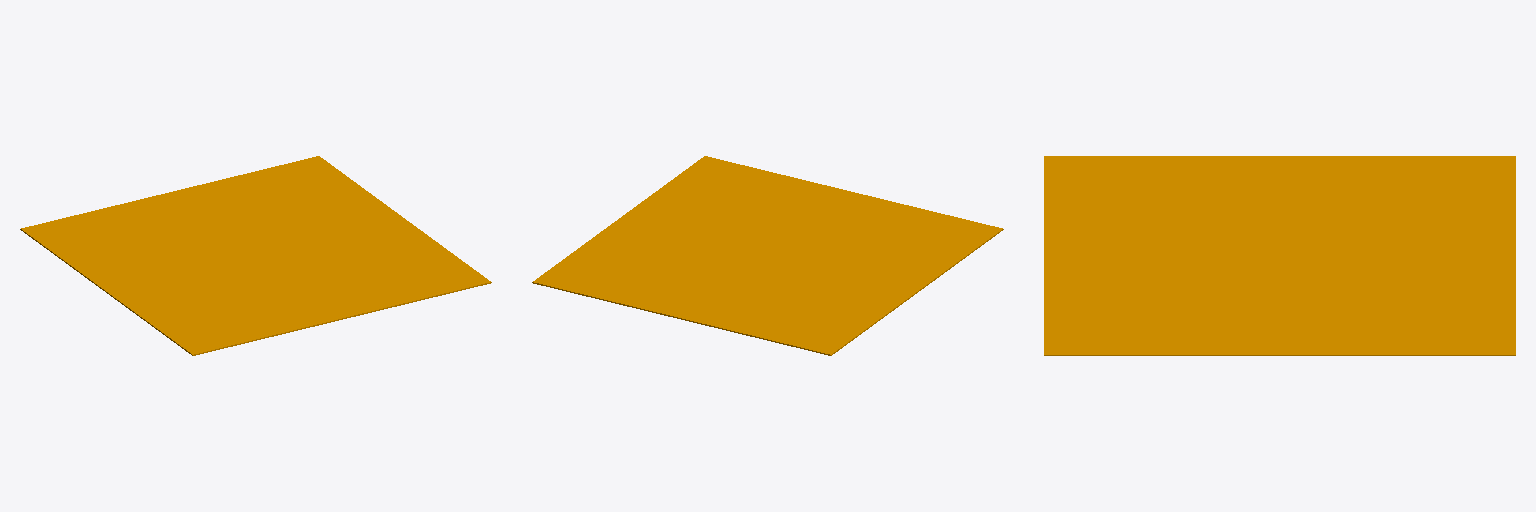
The robot description file, URDF, robot "aruco":
<?xml version="1.0" ?>
<robot name="aruco">
  <gazebo reference="aruco_link">
    <material>aruco_image</material>
  </gazebo>
  <link name="aruco_link">
    <inertial>
      <mass value="1.0"/>
      <origin xyz="0 0 0" rpy="0 0 0"/>
      <inertia ixx="0.004800083" ixy="0" ixz="0" iyy="0.00480083" iyz="0" izz="0.0096"/>
    </inertial>
    <collision name="aruco_collision">
      <origin xyz="0 0 0" rpy="0 0 0"/>
      <geometry>
        <box size="0.24 0.24 0.001"/>
      </geometry>
    </collision>
    <visual name="aruco_visual">
      <origin xyz="0 0 0" rpy="0 0 0"/>
      <geometry>
        <box size="0.24 0.24 0.001"/>
      </geometry>
      <material name="aruco_image">
        <texture filename="package://robot_sim/hand_eye_calibration/urdf/aruco/materials/textures/582_600x600.png"/>
      </material>
    </visual>
  </link>
</robot>

--- Facts derived from the render (not from the file) ---
The picture shows the robot from 3 angles, left to right: view 1: azimuth 30°, elevation 25°; view 2: azimuth 150°, elevation 25°; view 3: azimuth 270°, elevation 25°; orthographic projection.
Robot: aruco — 1 links, 0 joints (none); root link aruco_link; default pose: all joints at 0.
Links seen in each view (by area): view 1: aruco_link; view 2: aruco_link; view 3: aruco_link.
Boxes of the visible links, x1,y1,x2,y2 form: aruco_link: [20, 156, 491, 355]; aruco_link: [532, 156, 1003, 355]; aruco_link: [1044, 156, 1515, 355].
Bounding box of the posed robot: 0.24 × 0.24 × 0.001 m (x, y, z).
Geometry: primitives only (box / cylinder / sphere), no mesh files.
